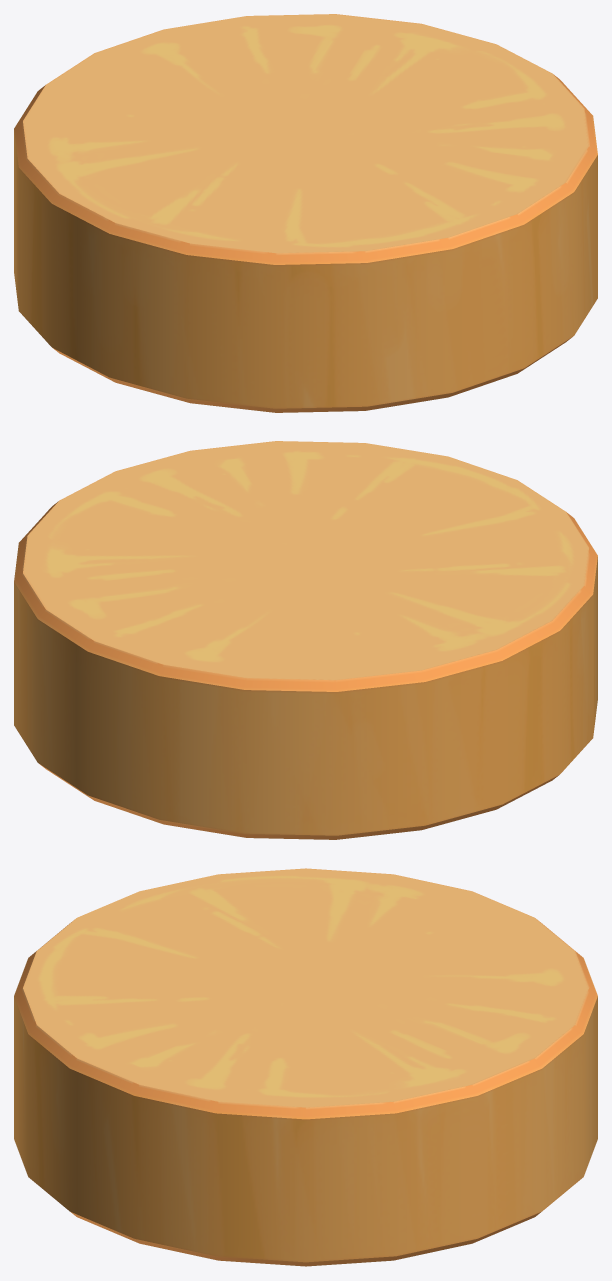
File: Oden_Daikon.gltf
3 views of the same model, one above another, from view 1: azimuth 30°, elevation 25°; view 2: azimuth 150°, elevation 25°; view 3: azimuth 270°, elevation 25° (orthographic).
Visible parts, largest first — view 1: Oden_Daikon; view 2: Oden_Daikon; view 3: Oden_Daikon.
Part boxes in pixels (x1,y1,x2,y2): Oden_Daikon: [14, 14, 597, 412]; Oden_Daikon: [14, 441, 597, 839]; Oden_Daikon: [14, 868, 597, 1266].
Bounding box in the file's own units: 2 × 0.6 × 2.
Materials: 1 (1 with a texture image).
